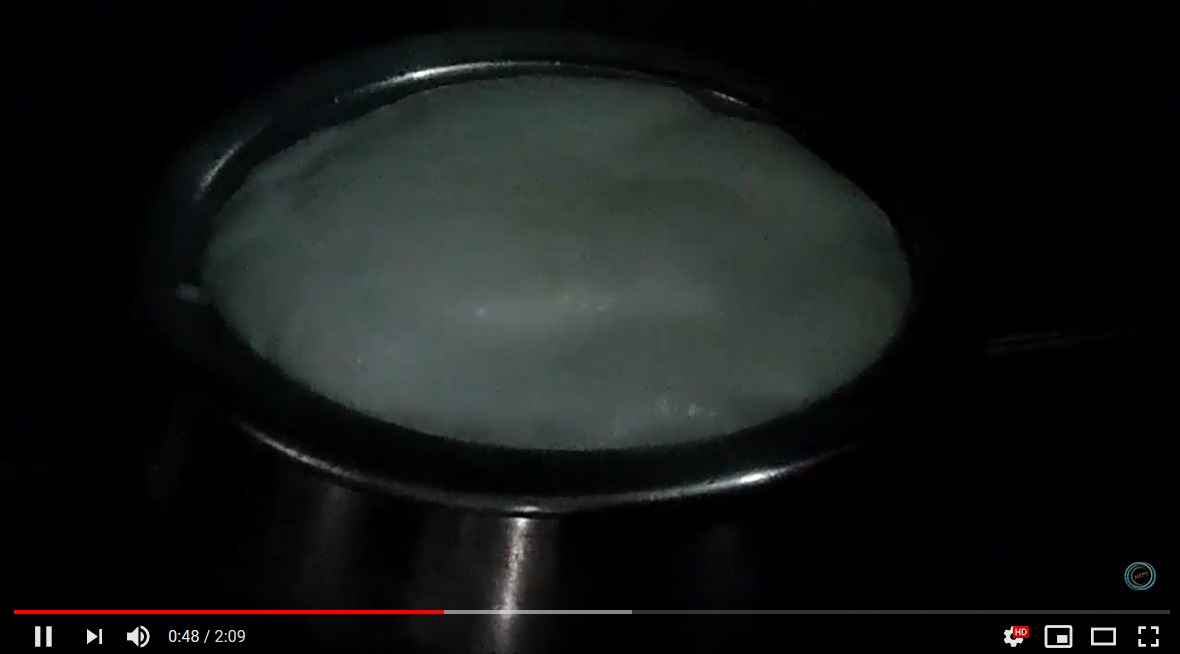Boiled: (176, 58, 945, 476)
